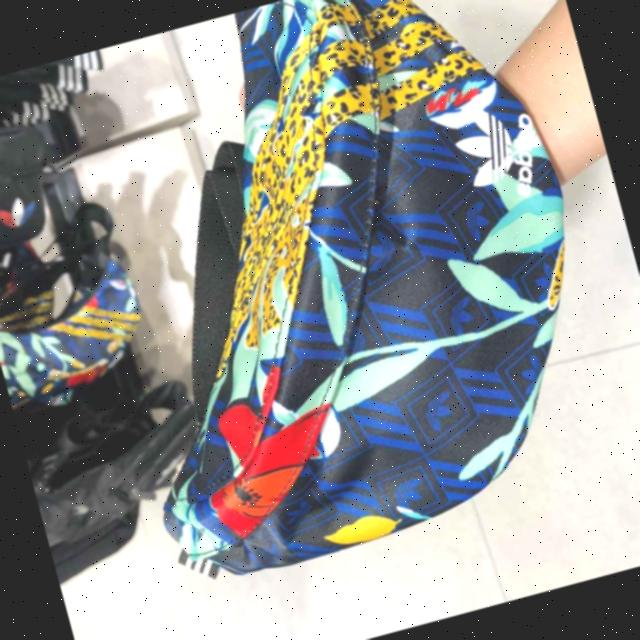Handbag: (33, 0, 639, 596)
